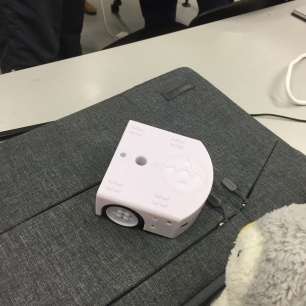thymio: (91, 118, 215, 241)
